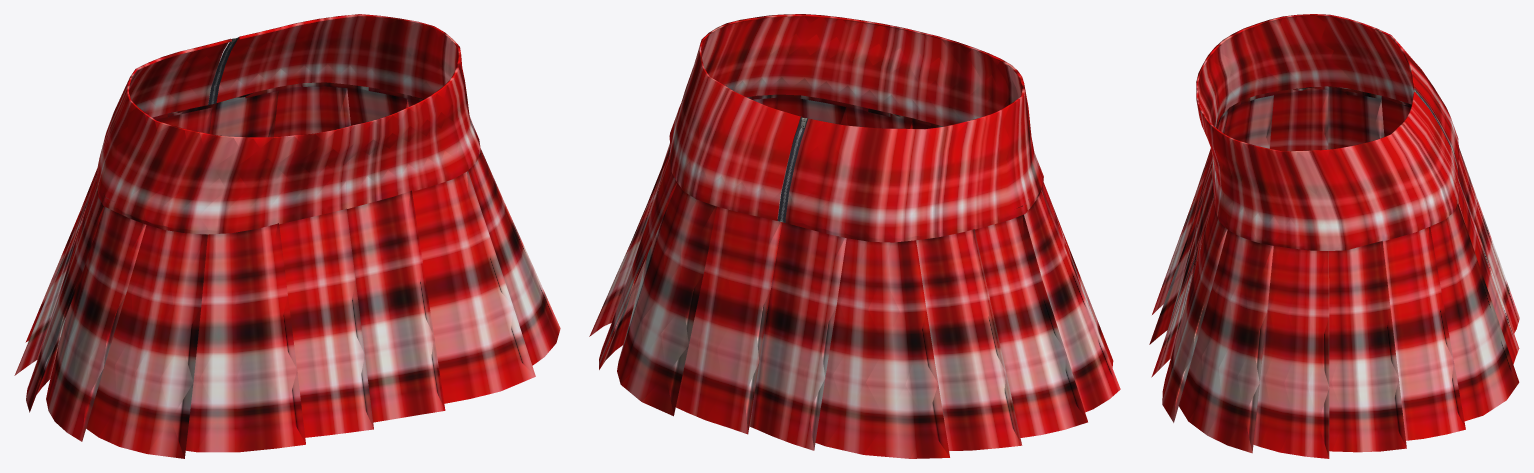
File: mtknife-pleated-mini-skirt.glb
3 renders of one model, left to right at view 1: azimuth 30°, elevation 25°; view 2: azimuth 150°, elevation 25°; view 3: azimuth 270°, elevation 25°, orthographic. The views are drawn at different scales.
Parts seen in each view (by area): view 1: pleated mini skirt; view 2: pleated mini skirt; view 3: pleated mini skirt.
Boxes of the visible parts, left/top/right/bottom form: pleated mini skirt: left=14, top=14, right=560, bottom=458; pleated mini skirt: left=589, top=14, right=1120, bottom=458; pleated mini skirt: left=1149, top=14, right=1519, bottom=458.
Bounding box in the file's own units: 48.96 × 27.49 × 34.72.
Materials: 1 (1 with a texture image).
